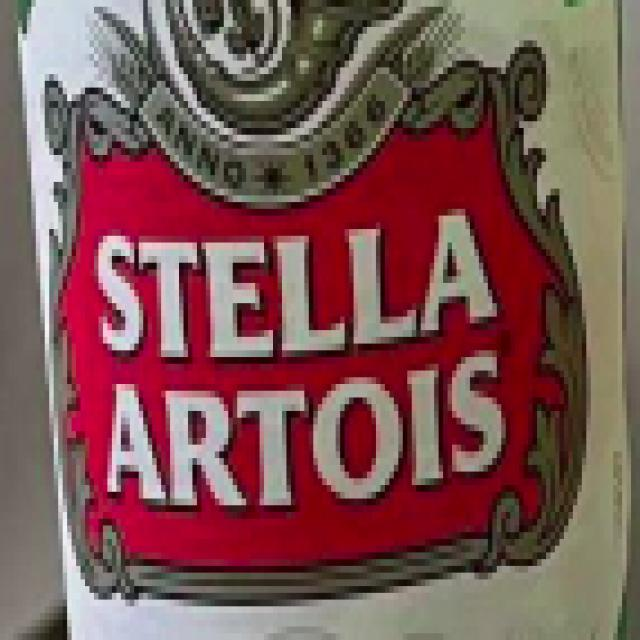Stella Artois 0.0: (4, 0, 640, 640)
